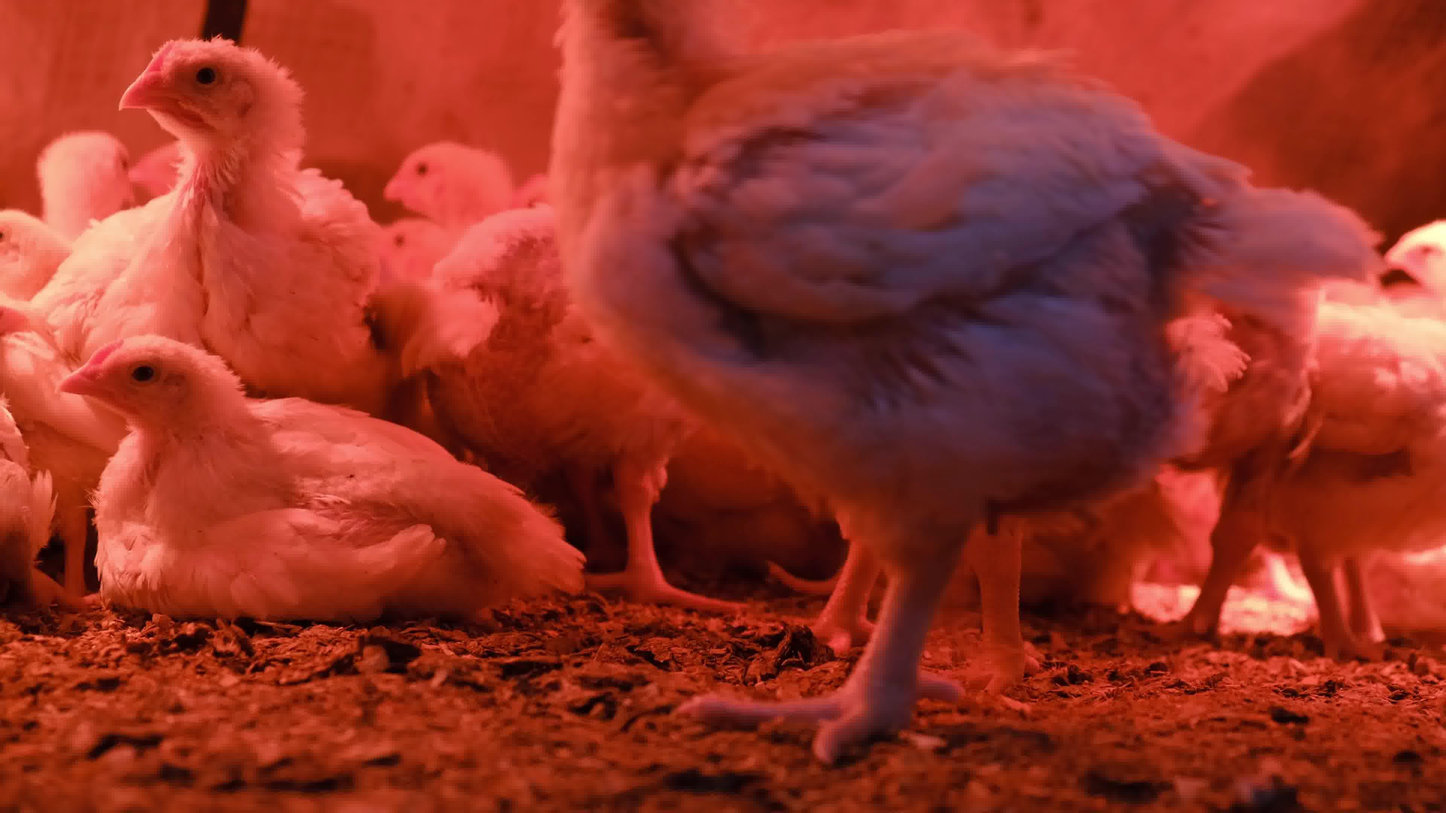AbNormal: (68, 322, 567, 640), (0, 303, 104, 642)
Normal: (538, 2, 1184, 768), (409, 188, 736, 615), (88, 26, 427, 348), (1239, 169, 1446, 666), (371, 136, 546, 267), (30, 109, 156, 228), (356, 228, 486, 333), (0, 188, 87, 343), (124, 143, 220, 233)
